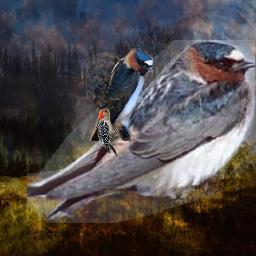Swallow: (27, 40, 255, 223), (86, 48, 153, 141)
Woodpecker: (96, 105, 119, 160)
